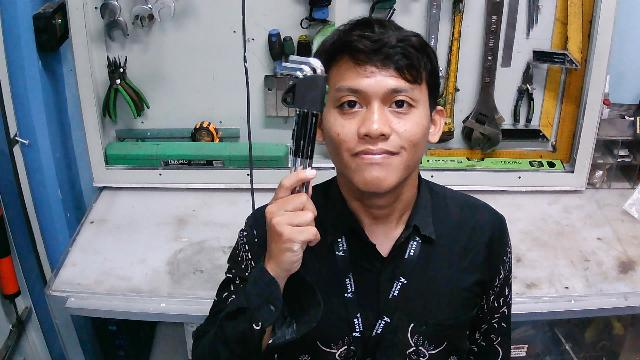kunci_l: (277, 49, 331, 227)
